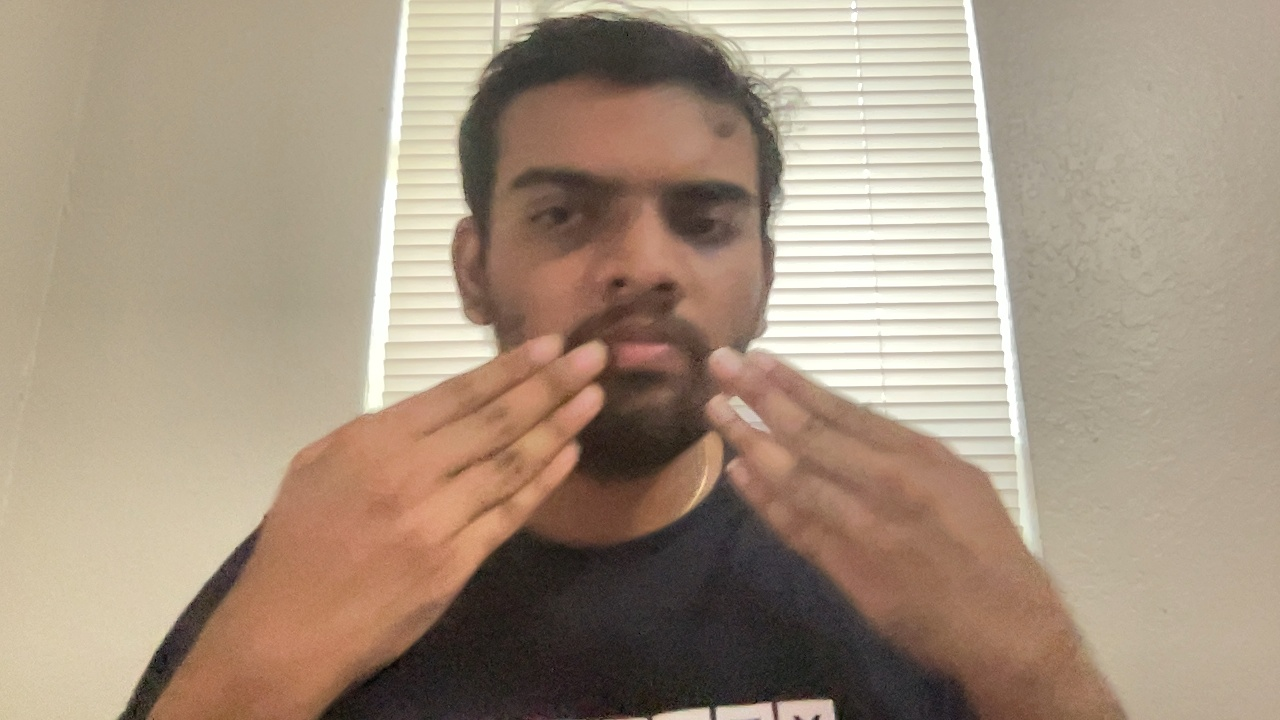thanks: (220, 328, 1078, 681)
